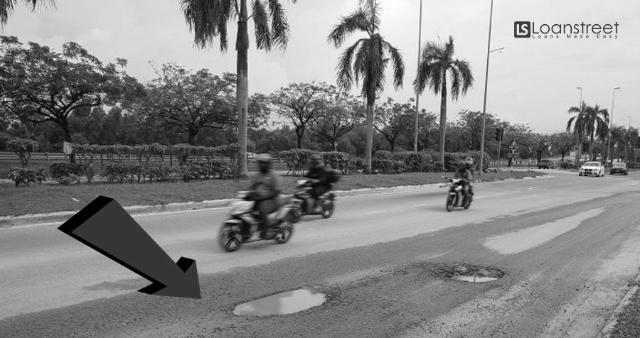Pothole: (230, 283, 328, 321), (446, 272, 504, 284)
